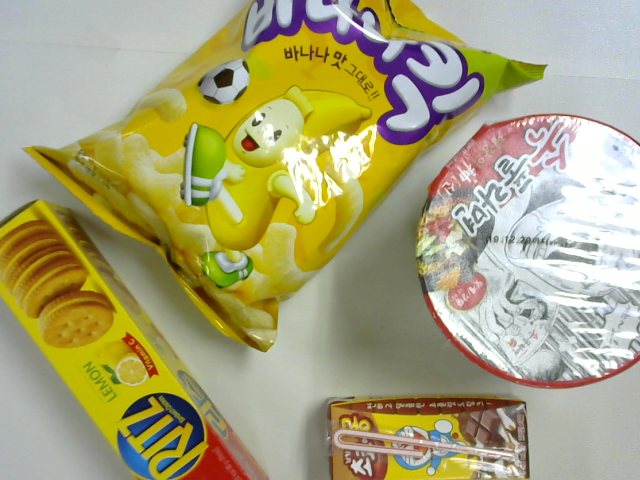Banana_Kick: (57, 1, 458, 318)
Choco_E_Mong: (311, 388, 517, 480)
Hejangpul: (439, 125, 640, 355)
Ritz_Remon_96g: (1, 201, 296, 477)
